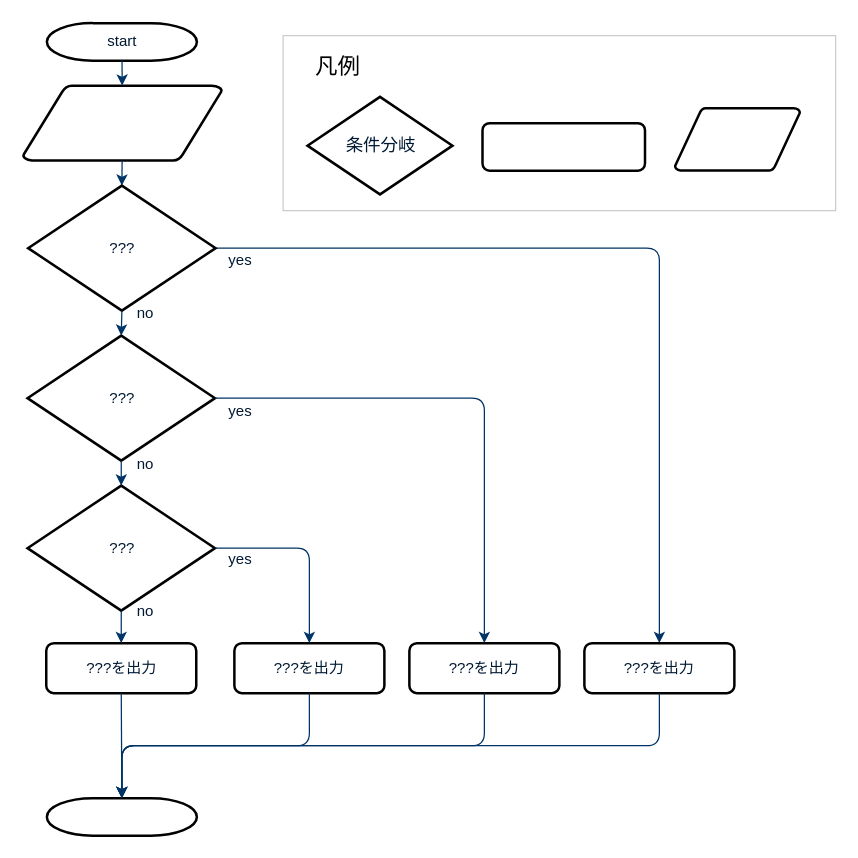
The diagram is 858 pixels wide and 858 high, and some of its shapes have lost their labels. Here are the shapes that lost their labels. From the top down, the centre of each, then its label:
point (121, 122): 入力値を受け取る
point (737, 138): データ
point (563, 146): 処理
point (121, 816): end
